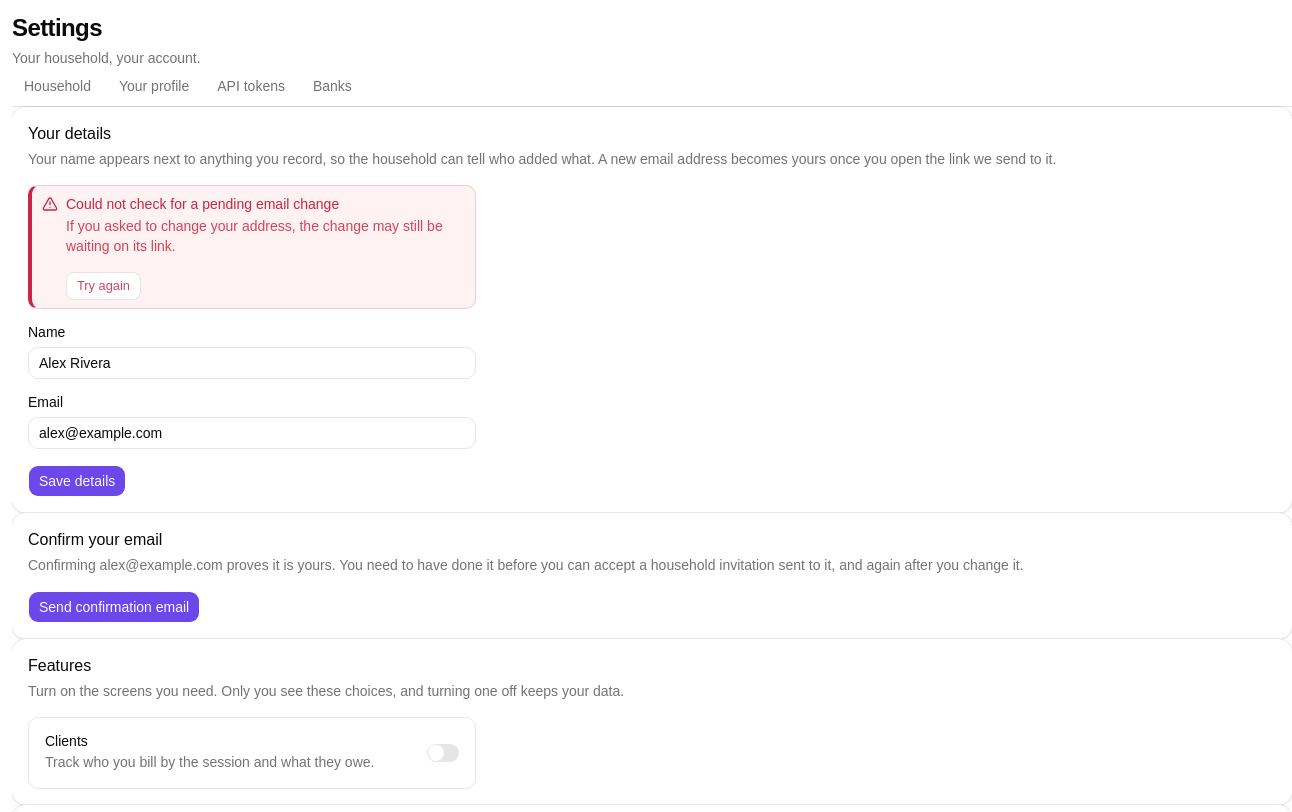
Scenario: a pending change of address › asks again when the failed lookup is retried
Click the button "Try again": (103, 286) x1=66 y1=272 x2=141 y2=300
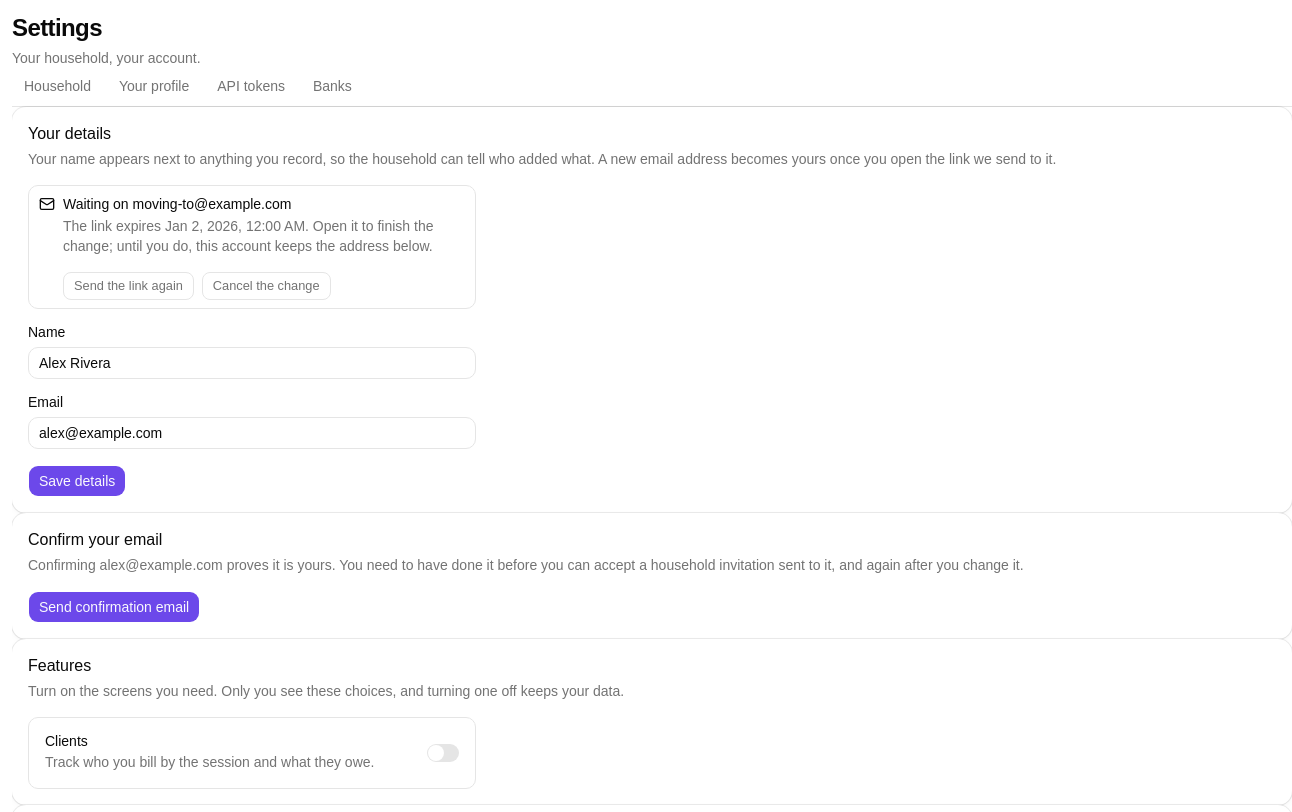
Expected: the message shows "moving-to@example.com", x1=132 y1=196 x2=291 y2=212
